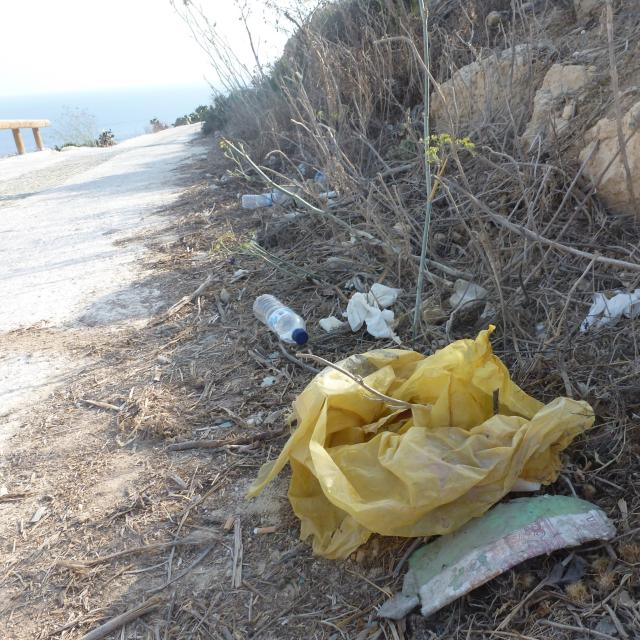Bottle: (252, 293, 309, 345), (243, 192, 280, 209)
Cigarette: (254, 526, 277, 536), (222, 516, 236, 532), (153, 372, 162, 381)
Other litter: (375, 495, 618, 622), (344, 283, 403, 341)
Other plastic: (578, 287, 640, 332), (273, 179, 339, 217), (449, 278, 489, 312), (481, 301, 499, 318), (536, 320, 548, 338), (314, 169, 326, 183), (298, 164, 306, 176)
Plastic bag - wrapper: (250, 320, 597, 564)
Styrofoam piece: (317, 316, 344, 333)
